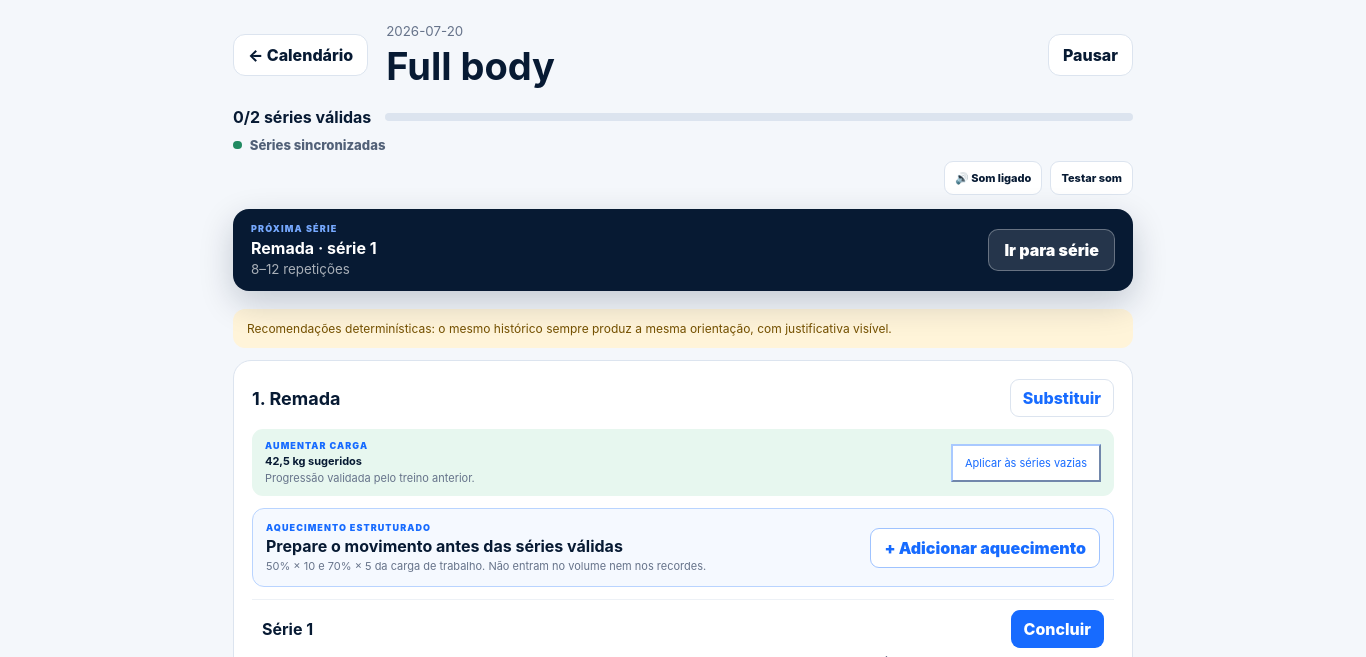
Scenario: percurso principal do treino › aplica a carga recomendada somente às séries vazias
Click the button "Aplicar às séries vazias" at point(1026, 462), box top-left (951, 444), bottom-right (1101, 482)
(page scrolled)
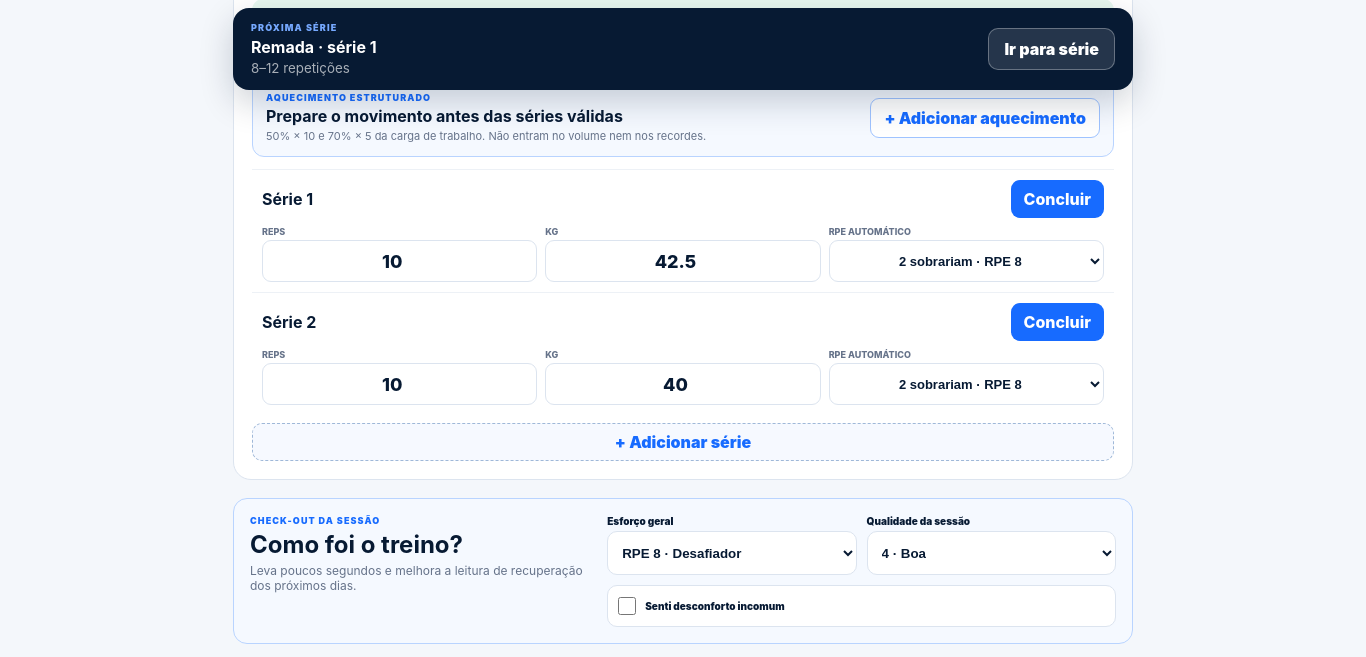
Expected: the number field named "Carga da série 2" holds "40", top-left (545, 363), bottom-right (821, 405)
Now the number field named "Carga da série 1" holds "42.5", box top-left (545, 240), bottom-right (821, 282)
